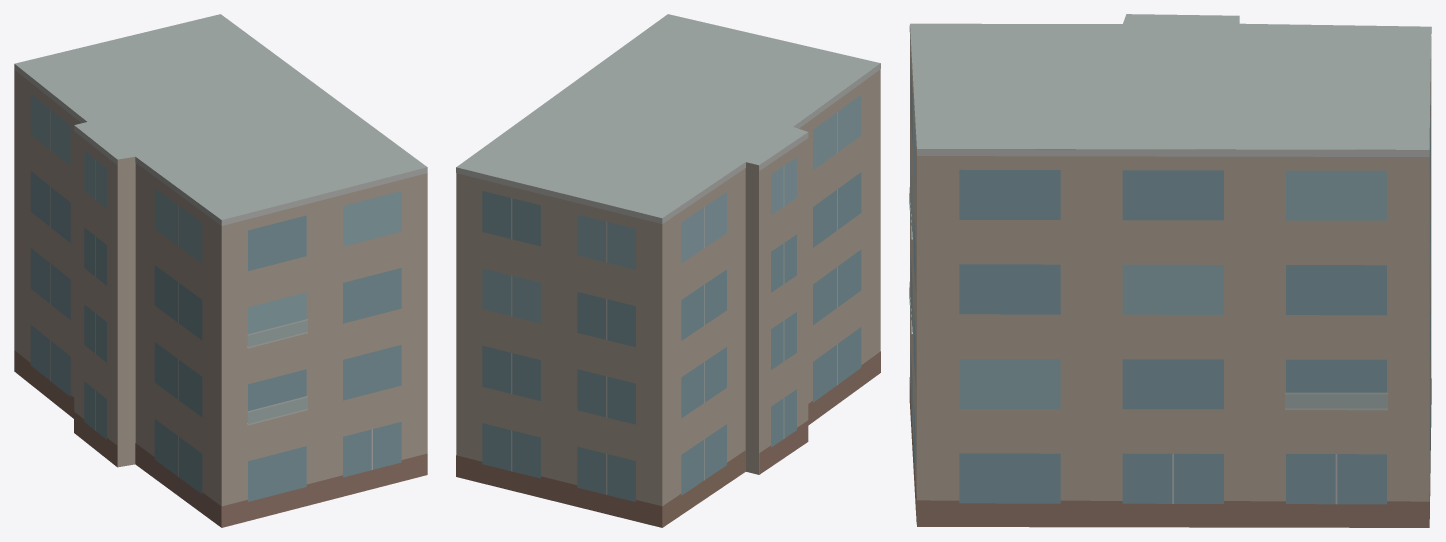
File: survey-upis-33032658.glb
3 views of the same model, side by side, from view 1: azimuth 30°, elevation 25°; view 2: azimuth 150°, elevation 25°; view 3: azimuth 270°, elevation 25° (orthographic). The views are drawn at different scales.
Visible parts, largest first — view 1: survey-upis-33032658.tmp; view 2: survey-upis-33032658.tmp; view 3: survey-upis-33032658.tmp.
Part boxes in pixels (x1,y1,x2,y2): survey-upis-33032658.tmp: (14,14,427,527); survey-upis-33032658.tmp: (456,14,880,527); survey-upis-33032658.tmp: (909,14,1431,527).
Bounding box in the file's own units: 9.9 × 12.8 × 16.02.
